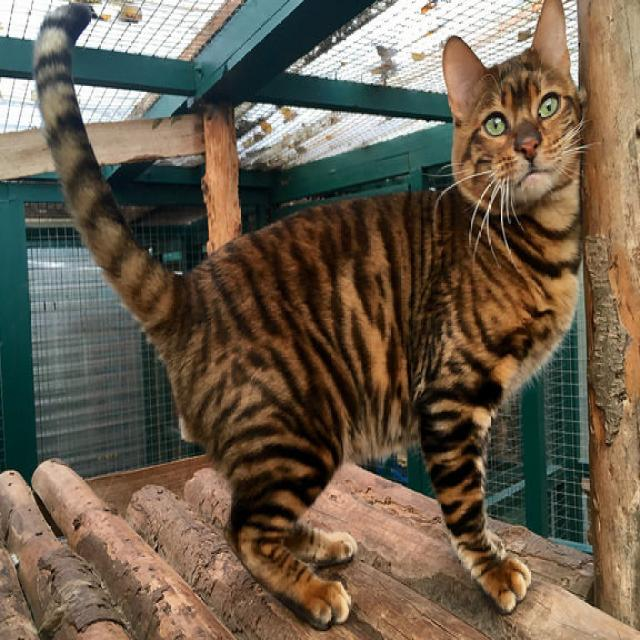Toyger: (31, 0, 587, 631)
